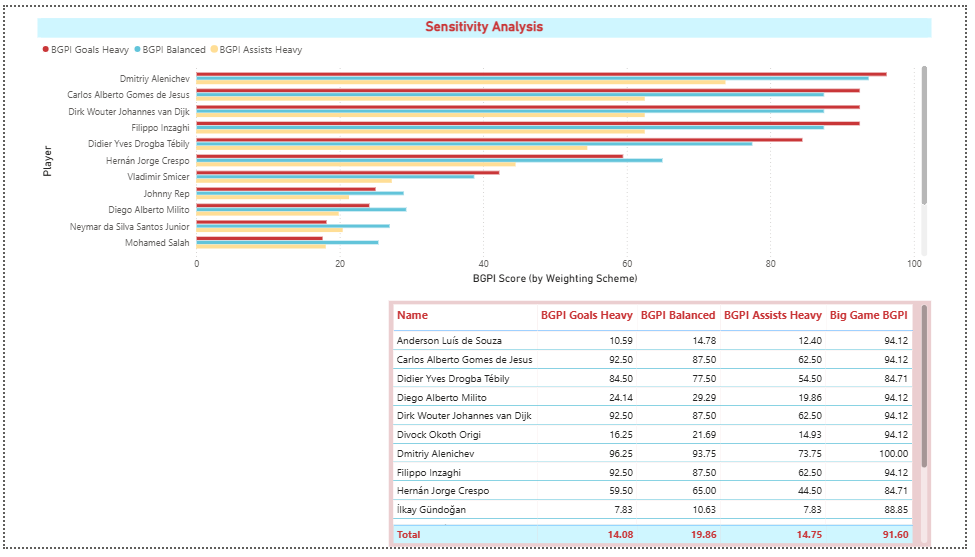

The page's visual inventory and layout, read from the dashboard file:
{"tool":"powerbi","page":{"name":"Sensitivity Analysis","canvas":[1280,720],"ordinal":3},"visuals":[{"type":"clusteredBarChart","title":"Sensitivity Analysis","fields":{"Category":["public players.name"],"Y":["public competitions.BGPI Goals Heavy","public competitions.BGPI Balanced","public competitions.BGPI Assists Heavy"]},"box":[43.3,15,1191.7,360],"z":0},{"type":"tableEx","fields":{"Values":["public players.name","public competitions.BGPI Goals Heavy","public competitions.BGPI Balanced","public competitions.BGPI Assists Heavy","regular bgpi.Big Game BGPI"]},"box":[511.7,391.7,723.3,328.3],"z":1}]}

Visuals, with their boxes in screenshot pixels (x1, y1, x2, y2), scaled from the page's 1280x720 canvas onto the 975x557 screenshot:
"Sensitivity Analysis" clusteredBarChart: x1=33 y1=12 x2=941 y2=290
tableEx - public players.name x public competitions.BGPI Goals Heavy: x1=390 y1=303 x2=941 y2=556
